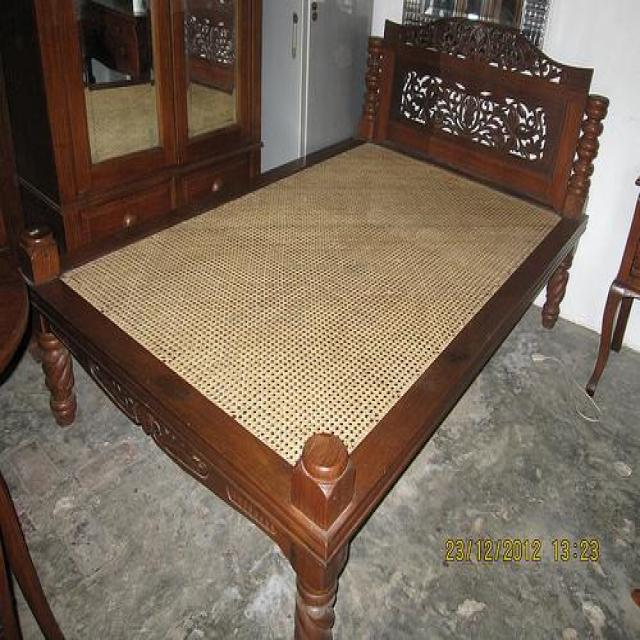bed: (18, 14, 609, 638)
